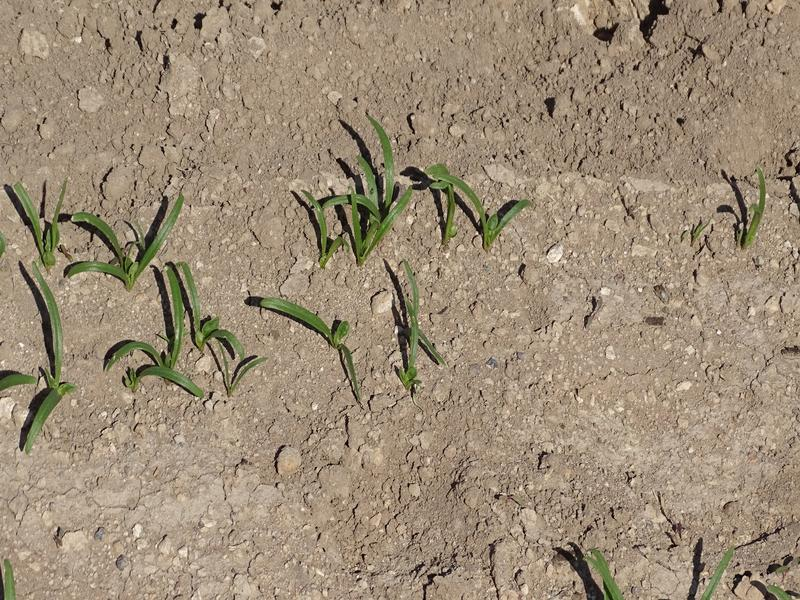Espinaca: (77, 206, 258, 401), (313, 109, 524, 254), (266, 292, 378, 406), (14, 266, 74, 453), (388, 264, 447, 392), (22, 182, 72, 264), (743, 169, 773, 256), (580, 540, 623, 600), (701, 548, 732, 600)
